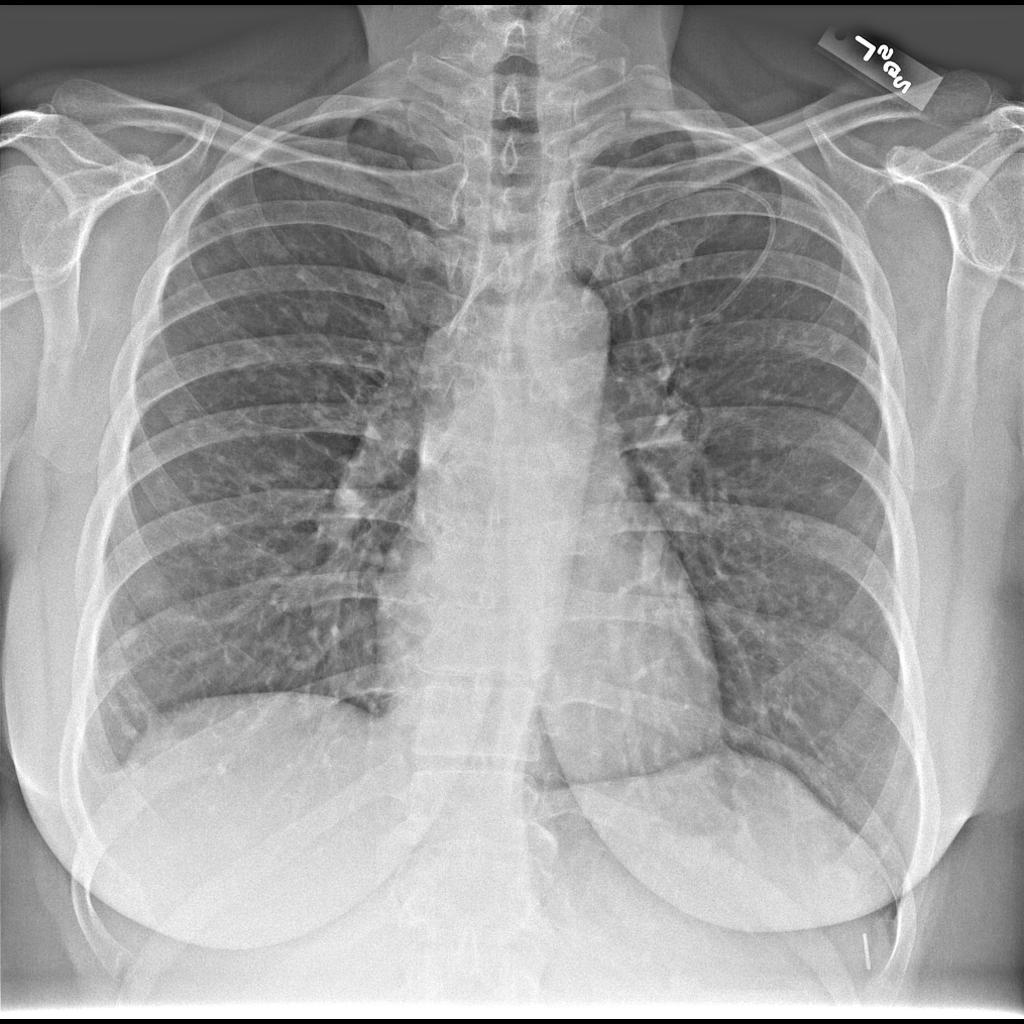Nodule: (297, 292, 329, 335)
